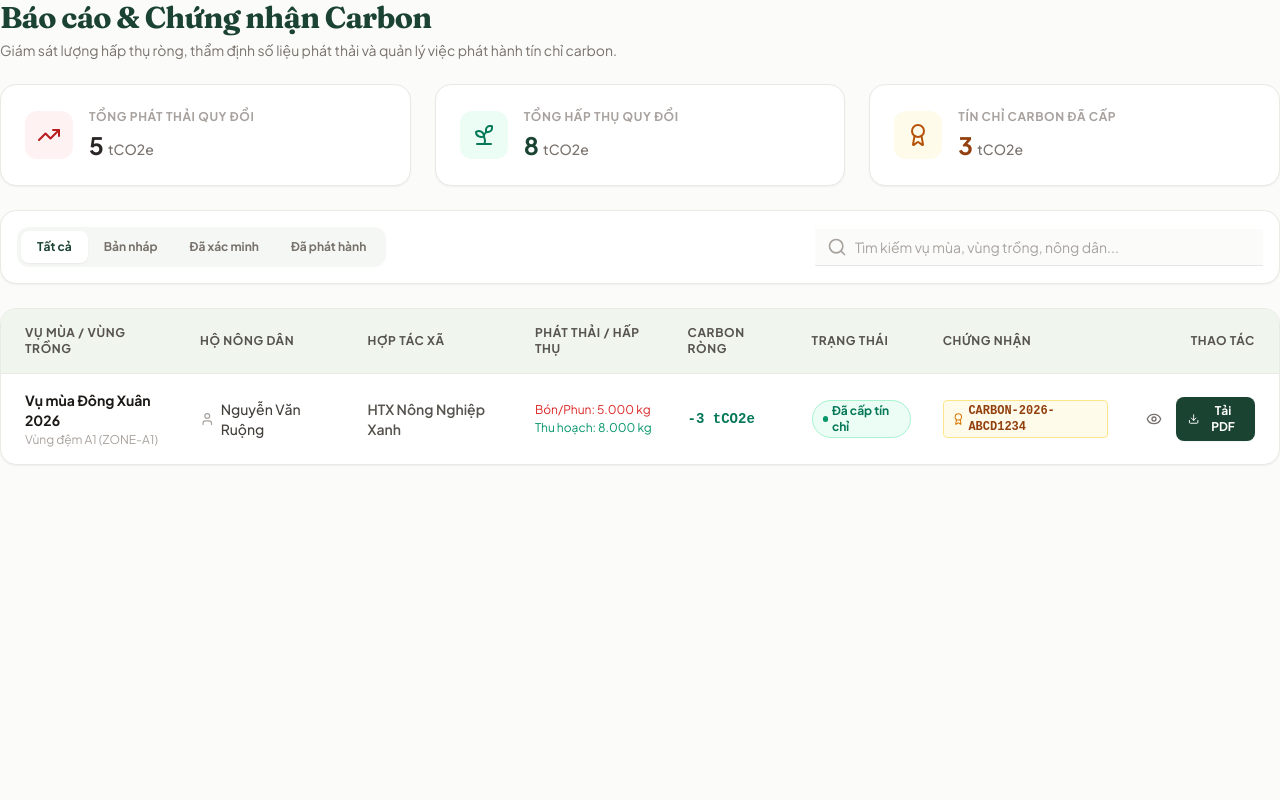
Test case: Carbon Page › opens details modal and displays calculations breakdown
Expected: the text "Vụ mùa Đông Xuân 2026" is shown, [25,390,168,430]
Click the button titled "Xem chi tiết" at (1154, 419), box [1140,405,1168,433]
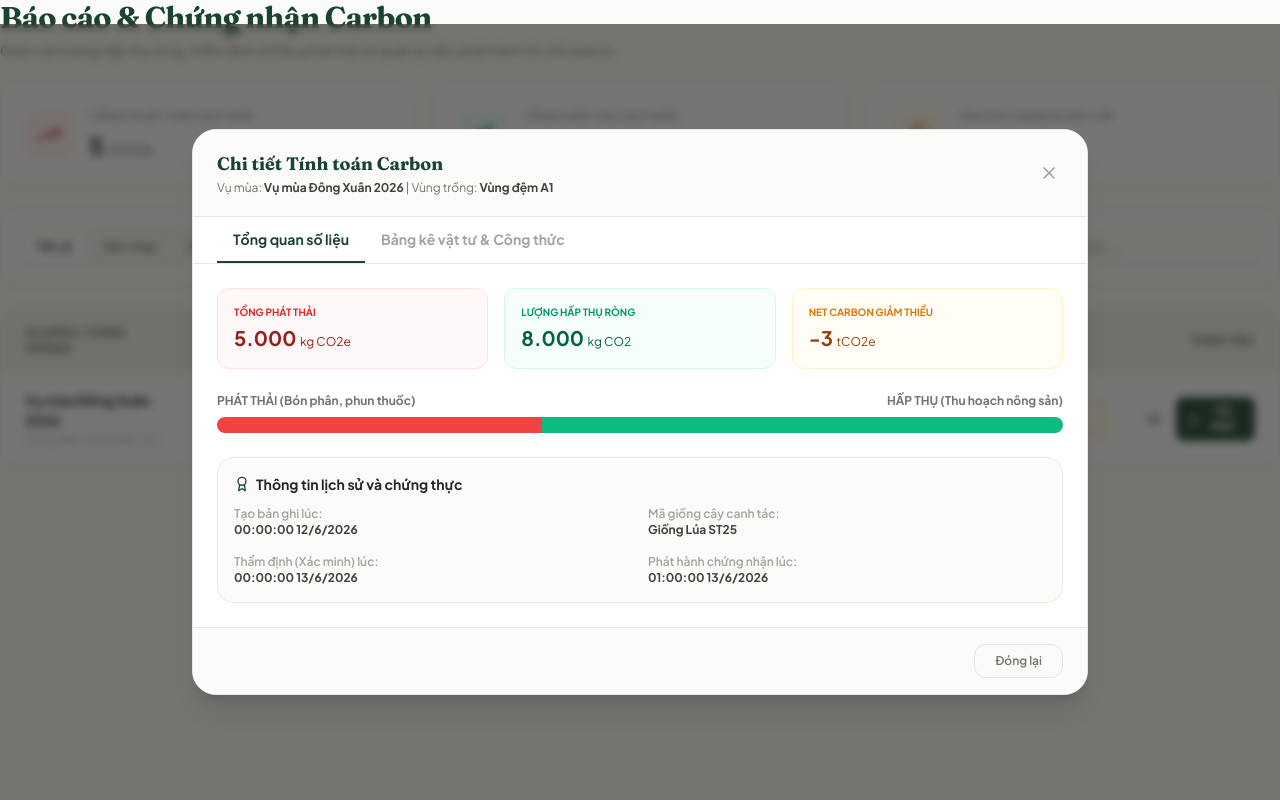
Expected: the heading "Chi tiết Tính toán Carbon" is shown, [217,152,443,175]
Expected: the text "Giống Lúa ST25" is shown, [648,522,737,537]
// Click on breakdown tab
Click the button "Bảng kê vật tư & Công thức" at (473, 240), box [365,217,581,263]
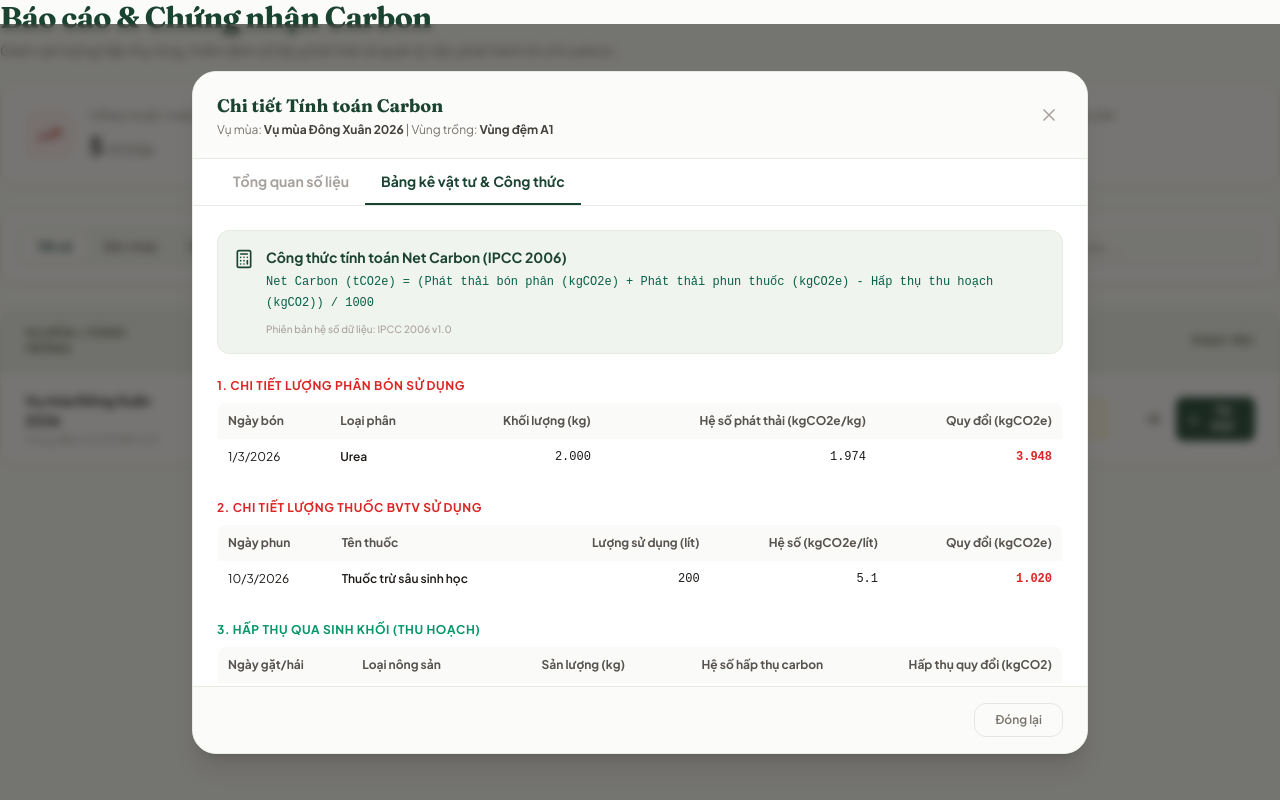
Expected: the text "Urea" is shown, [330,438,442,475]
Expected: the text "Thuốc trừ sâu sinh học" is shown, [332,560,534,597]
